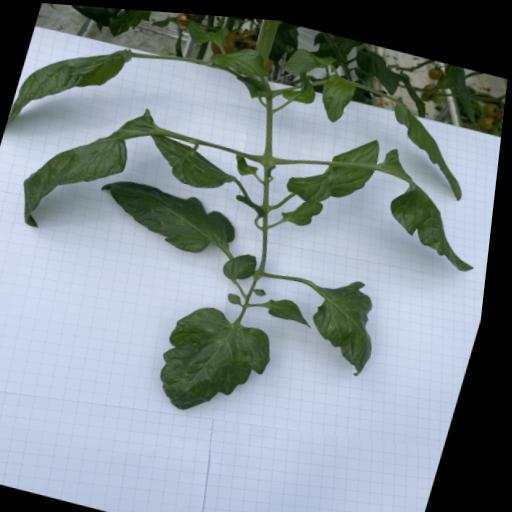Healthy: (362, 138, 502, 267), (8, 22, 137, 146), (91, 170, 250, 259), (375, 88, 489, 195), (284, 115, 388, 209), (142, 129, 247, 193), (347, 42, 408, 91), (208, 35, 274, 75), (315, 66, 360, 121), (282, 40, 339, 78), (266, 289, 325, 323), (182, 12, 230, 48), (283, 188, 329, 225), (224, 244, 265, 281), (230, 68, 276, 99)
